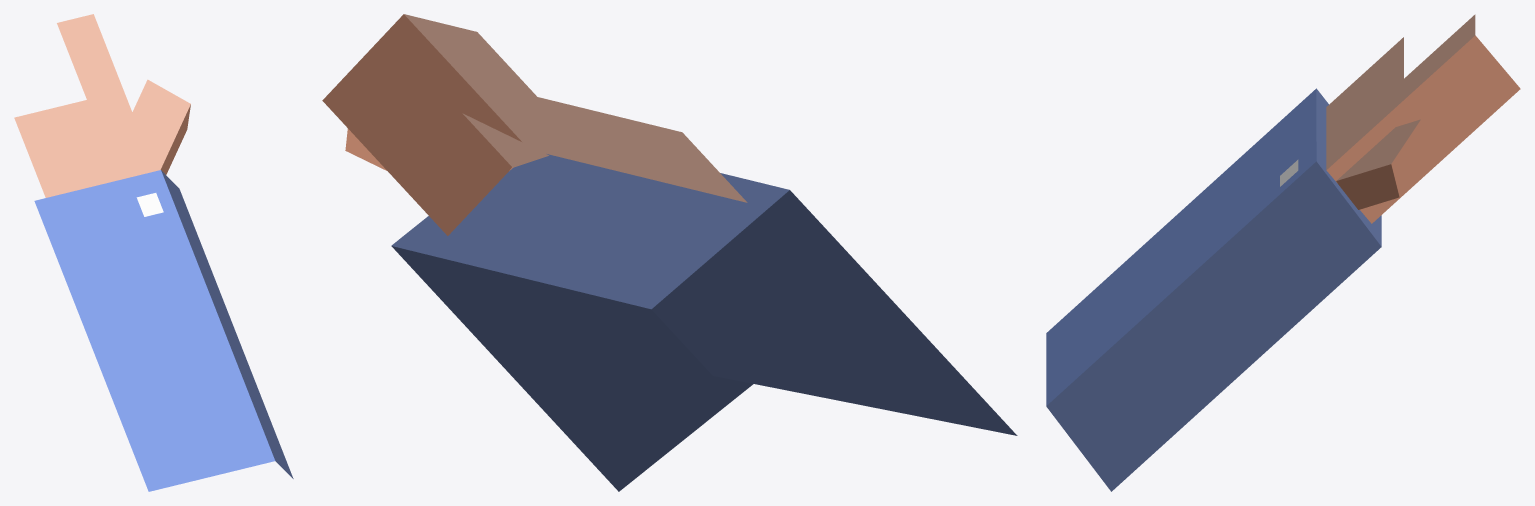
File: Tutorial_Object_01_L@Shake.FBX
3 views of the same model, side by side, from view 1: azimuth 30°, elevation 25°; view 2: azimuth 150°, elevation 25°; view 3: azimuth 270°, elevation 25° (orthographic). The views are drawn at different scales.
Parts seen in each view (by area): view 1: Tutorial_Object_01_L; view 2: Tutorial_Object_01_L; view 3: Tutorial_Object_01_L.
Part boxes in pixels (x1,y1,x2,y2): Tutorial_Object_01_L: [14, 14, 293, 491]; Tutorial_Object_01_L: [322, 14, 1017, 491]; Tutorial_Object_01_L: [1046, 14, 1520, 491].
Size of the model in its own units: 7.25 by 13.39 by 13.39.
